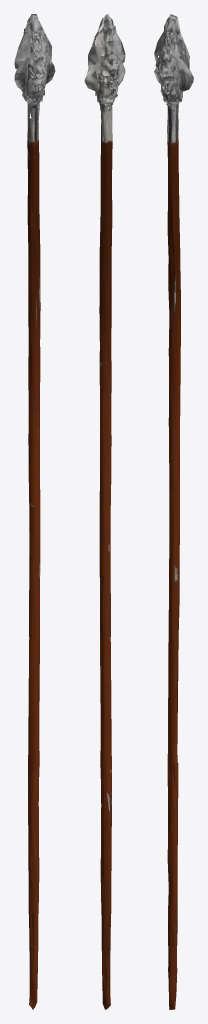
The model's file is 1021_staff.glb.
3 renders of one model, left to right at view 1: azimuth 30°, elevation 25°; view 2: azimuth 210°, elevation 25°; view 3: azimuth 330°, elevation 25°, orthographic.
Visible parts, largest first — view 1: Model; view 2: Model; view 3: Model.
Part boxes in pixels (x1,y1,x2,y2): Model: (14,14,55,1009); Model: (84,14,125,1009); Model: (154,14,193,1009).
Bounding box in the file's own units: 0.0422 × 1 × 0.0343.
Materials: 1 (1 with a texture image).
